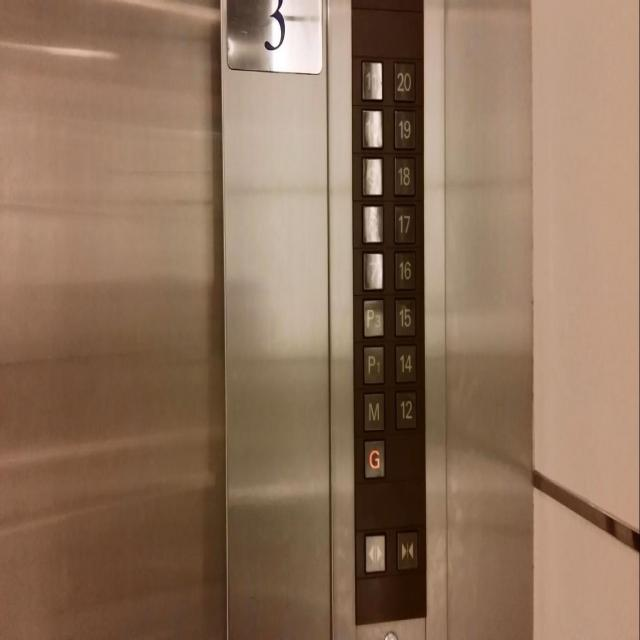10: (361, 107, 383, 148)
11: (361, 59, 383, 101)
12: (395, 389, 417, 430)
14: (394, 342, 417, 383)
15: (394, 298, 417, 338)
16: (394, 250, 417, 292)
17: (393, 205, 416, 245)
18: (394, 156, 416, 198)
19: (393, 108, 415, 150)
20: (393, 60, 415, 102)
7: (362, 249, 384, 292)
8: (361, 203, 384, 244)
9: (361, 156, 383, 196)
G: (363, 438, 385, 480)
M: (362, 392, 385, 432)
P1: (362, 343, 385, 385)
P3: (362, 297, 385, 338)
close: (396, 530, 418, 572)
open: (365, 534, 386, 574)
